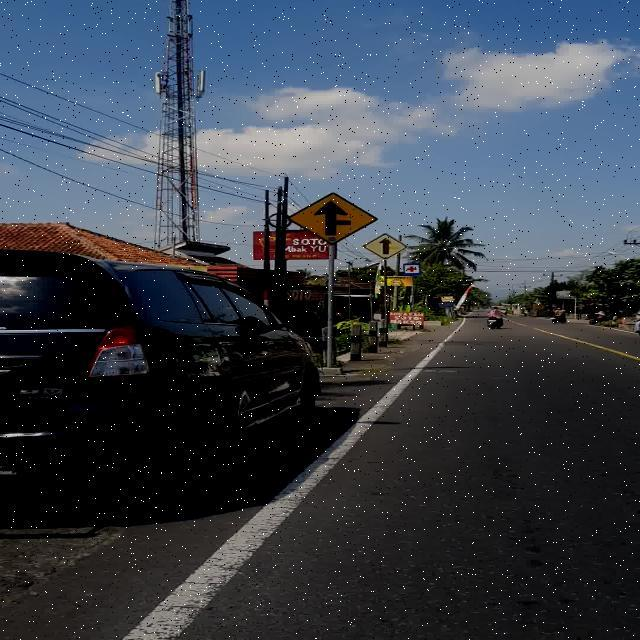Persimpangan 3 Prioritas Kanan: (287, 192, 378, 245)
